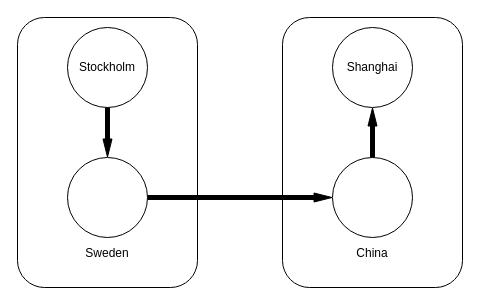
The diagram is 480 pixels wide and 305 high, and some of its shapes have lost their labels. The centre of each missing label's shape, as x and y in pixels:
"Beijing" belongs at (372,197).
"Lund" belongs at (107,197).
